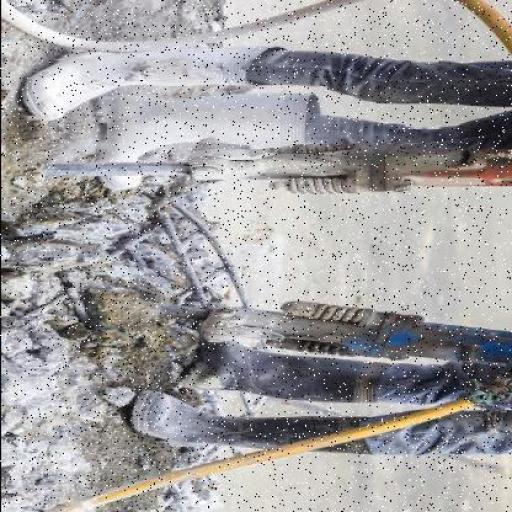safety_shoe: (91, 92, 323, 194), (20, 42, 273, 124), (130, 401, 361, 452), (178, 350, 396, 398)
